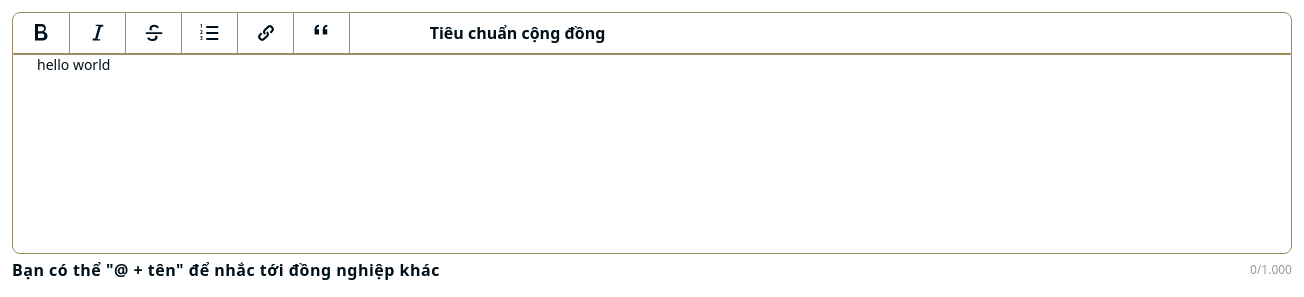
Test: RichTextEditor › blocks further input past maxLength
Clear the field at {"x": 652, "y": 154}, box x1=12 y1=54 x2=1292 y2=254
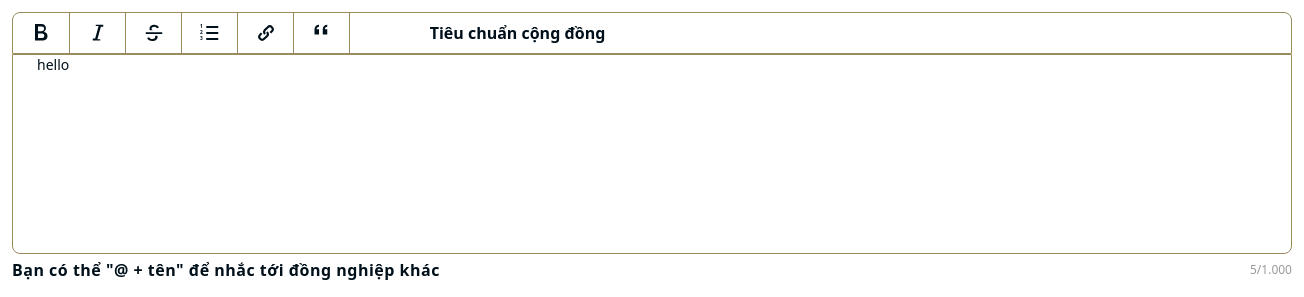
Now the text "5/1.000" is shown, box x1=1250 y1=262 x2=1292 y2=278
